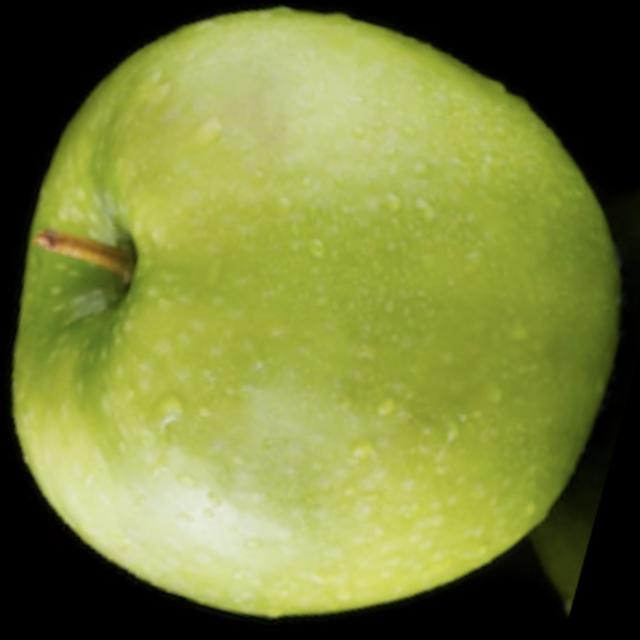Apel Segar: (10, 7, 622, 624)
